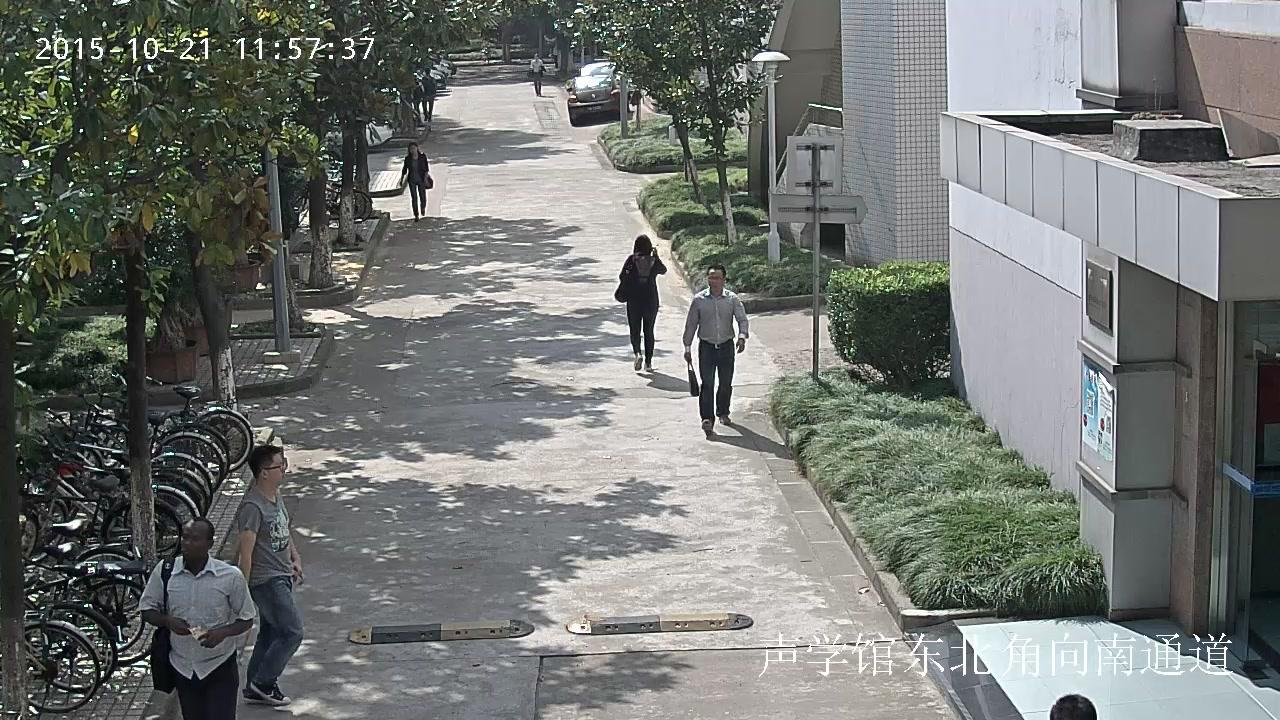face: (182, 521, 209, 558), (268, 454, 284, 484), (708, 269, 724, 290), (410, 145, 416, 154), (534, 53, 538, 59)
